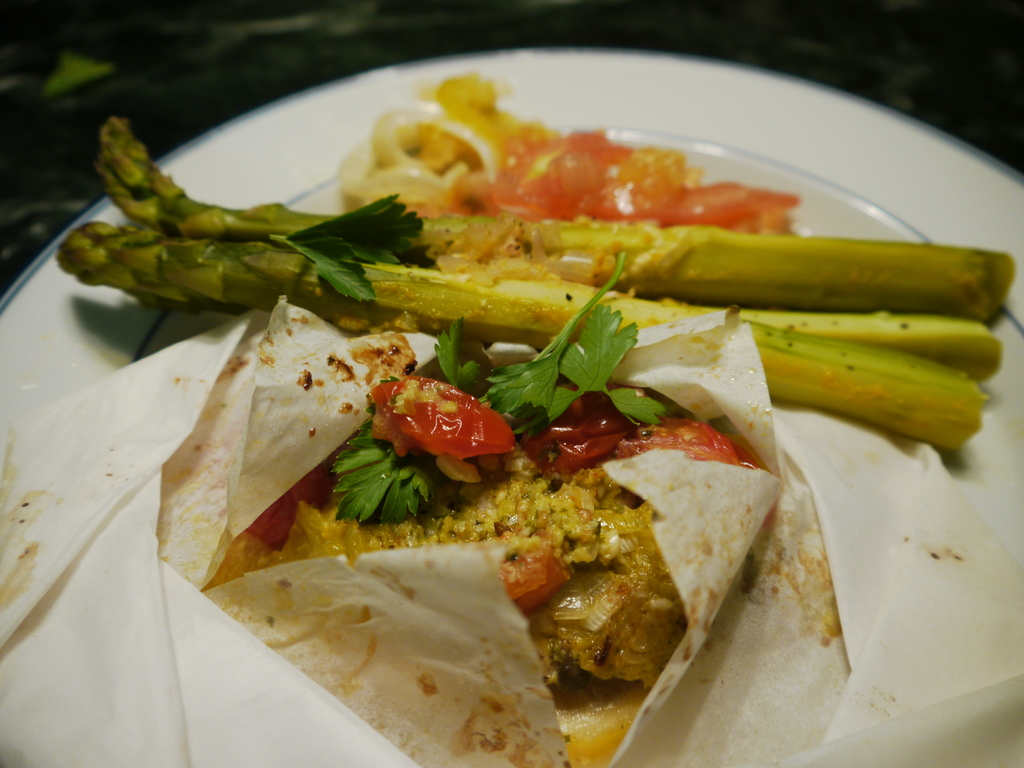taco: (182, 287, 769, 710)
